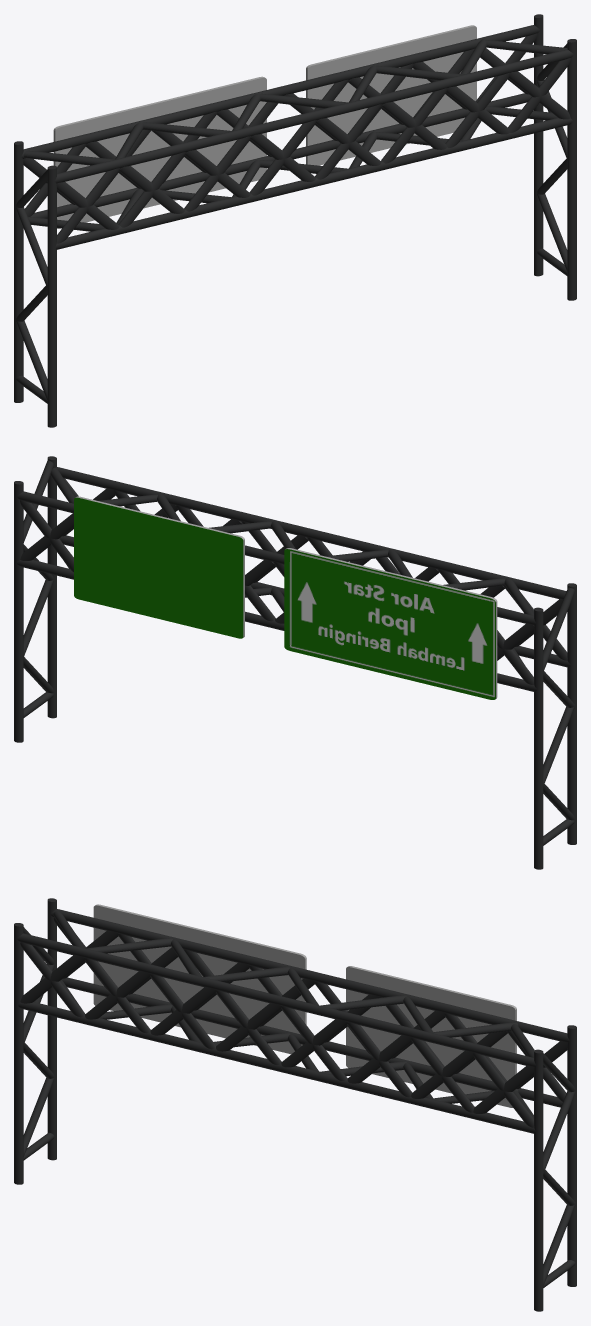
The model's file is signboard.fbx.
The picture shows the model from 3 angles, top to bottom: view 1: azimuth 30°, elevation 25°; view 2: azimuth 150°, elevation 25°; view 3: azimuth 330°, elevation 25°; orthographic projection.
Parts seen in each view (by area): view 1: tiang, Plane, Plane2; view 2: tiang, Plane, Plane2; view 3: tiang, Plane, Plane2.
Part boxes in pixels (left/top/right/bottom): tiang: left=14, top=14, right=576, bottom=427; Plane: left=53, top=76, right=266, bottom=228; Plane2: left=306, top=25, right=476, bottom=165; tiang: left=14, top=456, right=576, bottom=869; Plane: left=284, top=548, right=497, bottom=699; Plane2: left=74, top=496, right=244, bottom=638; tiang: left=14, top=898, right=576, bottom=1311; Plane: left=93, top=904, right=306, bottom=1054; Plane2: left=346, top=966, right=516, bottom=1107.
Size of the model in its own units: 14908 by 7051 by 1930.
Materials: 5 (2 with a texture image).
